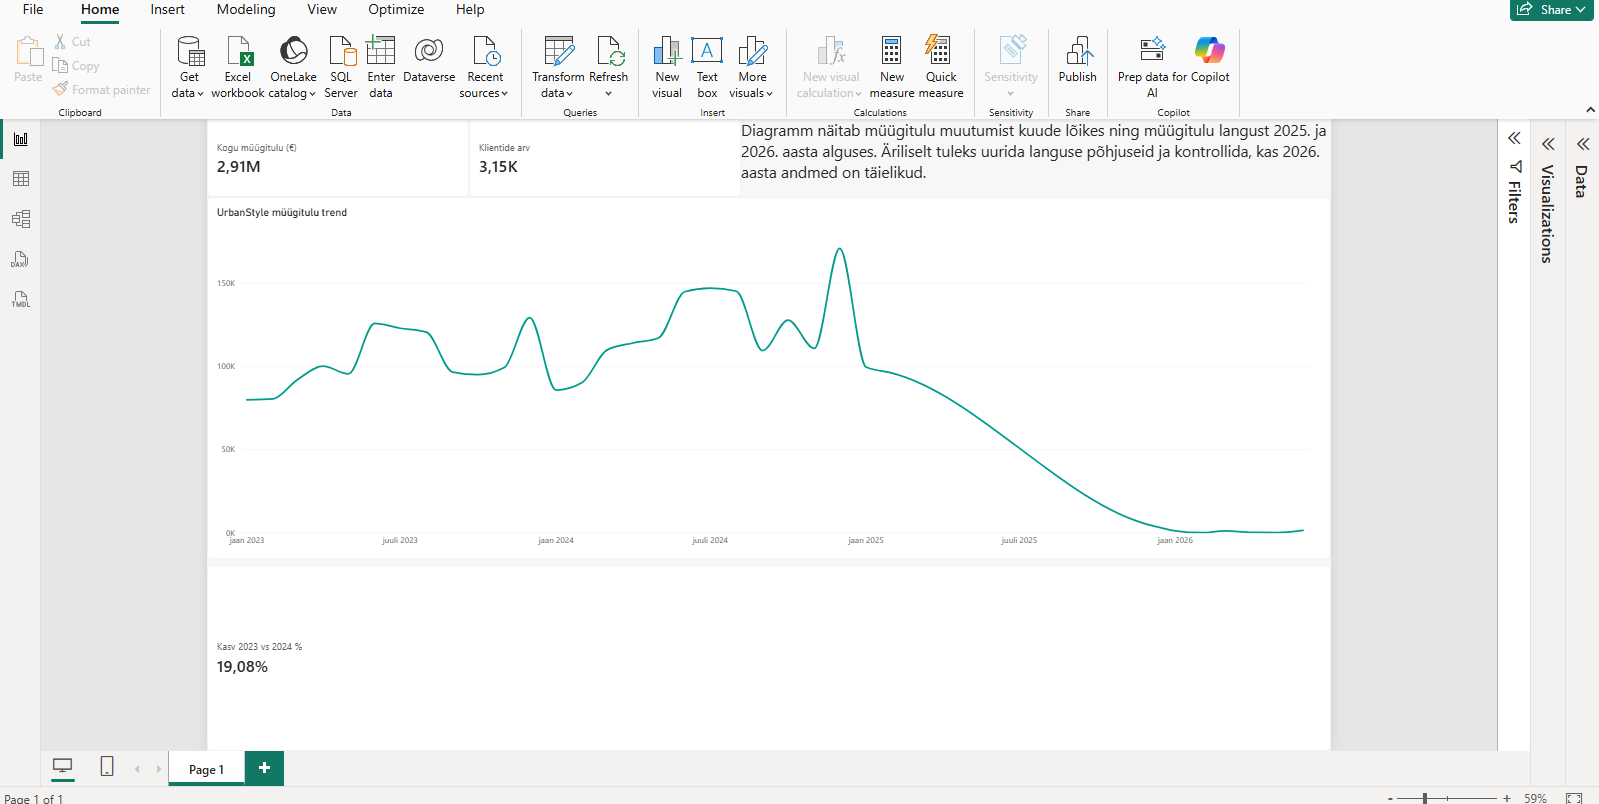

This screenshot's page, from the dashboard's own definition file:
{"tool":"powerbi","page":{"name":"Page 1","canvas":[1920,1080],"ordinal":0},"visuals":[{"type":"lineChart","title":"UrbanStyle müügitulu trend","fields":{"Category":["public sales.sale_date.Variation.Date Hierarchy.Year","public sales.sale_date.Variation.Date Hierarchy.Month"],"Y":["Sum(public sales.total_price)"]},"box":[0,133,1920,618.8],"z":0},{"type":"cardVisual","fields":{"Data":["Sum(public sales.total_price)"]},"box":[0,0,447.2,133],"z":1},{"type":"cardVisual","fields":{"Data":["Count(public customers.customer_id)"]},"box":[447.2,0,464.6,133],"z":2},{"type":"textbox","box":[911.8,0,1008.2,133],"z":3},{"type":"cardVisual","fields":{"Data":["public sales.Kasv 2023 vs 2024 %"]},"box":[0,762,1920,318],"z":4}]}

Visuals, with their boxes on the page's 1920x1080 design canvas (x1, y1, x2, y2). These are canvas units, not pixel positions in the 1599x804 screenshot, which may show the page scaled, cropped or inside an application window:
"UrbanStyle müügitulu trend" lineChart: 0/133/1920/752
cardVisual - Sum(public sales.total_price): 0/0/447/133
cardVisual - Count(public customers.customer_id): 447/0/912/133
textbox: 912/0/1920/133
cardVisual - public sales.Kasv 2023 vs 2024 %: 0/762/1920/1080
